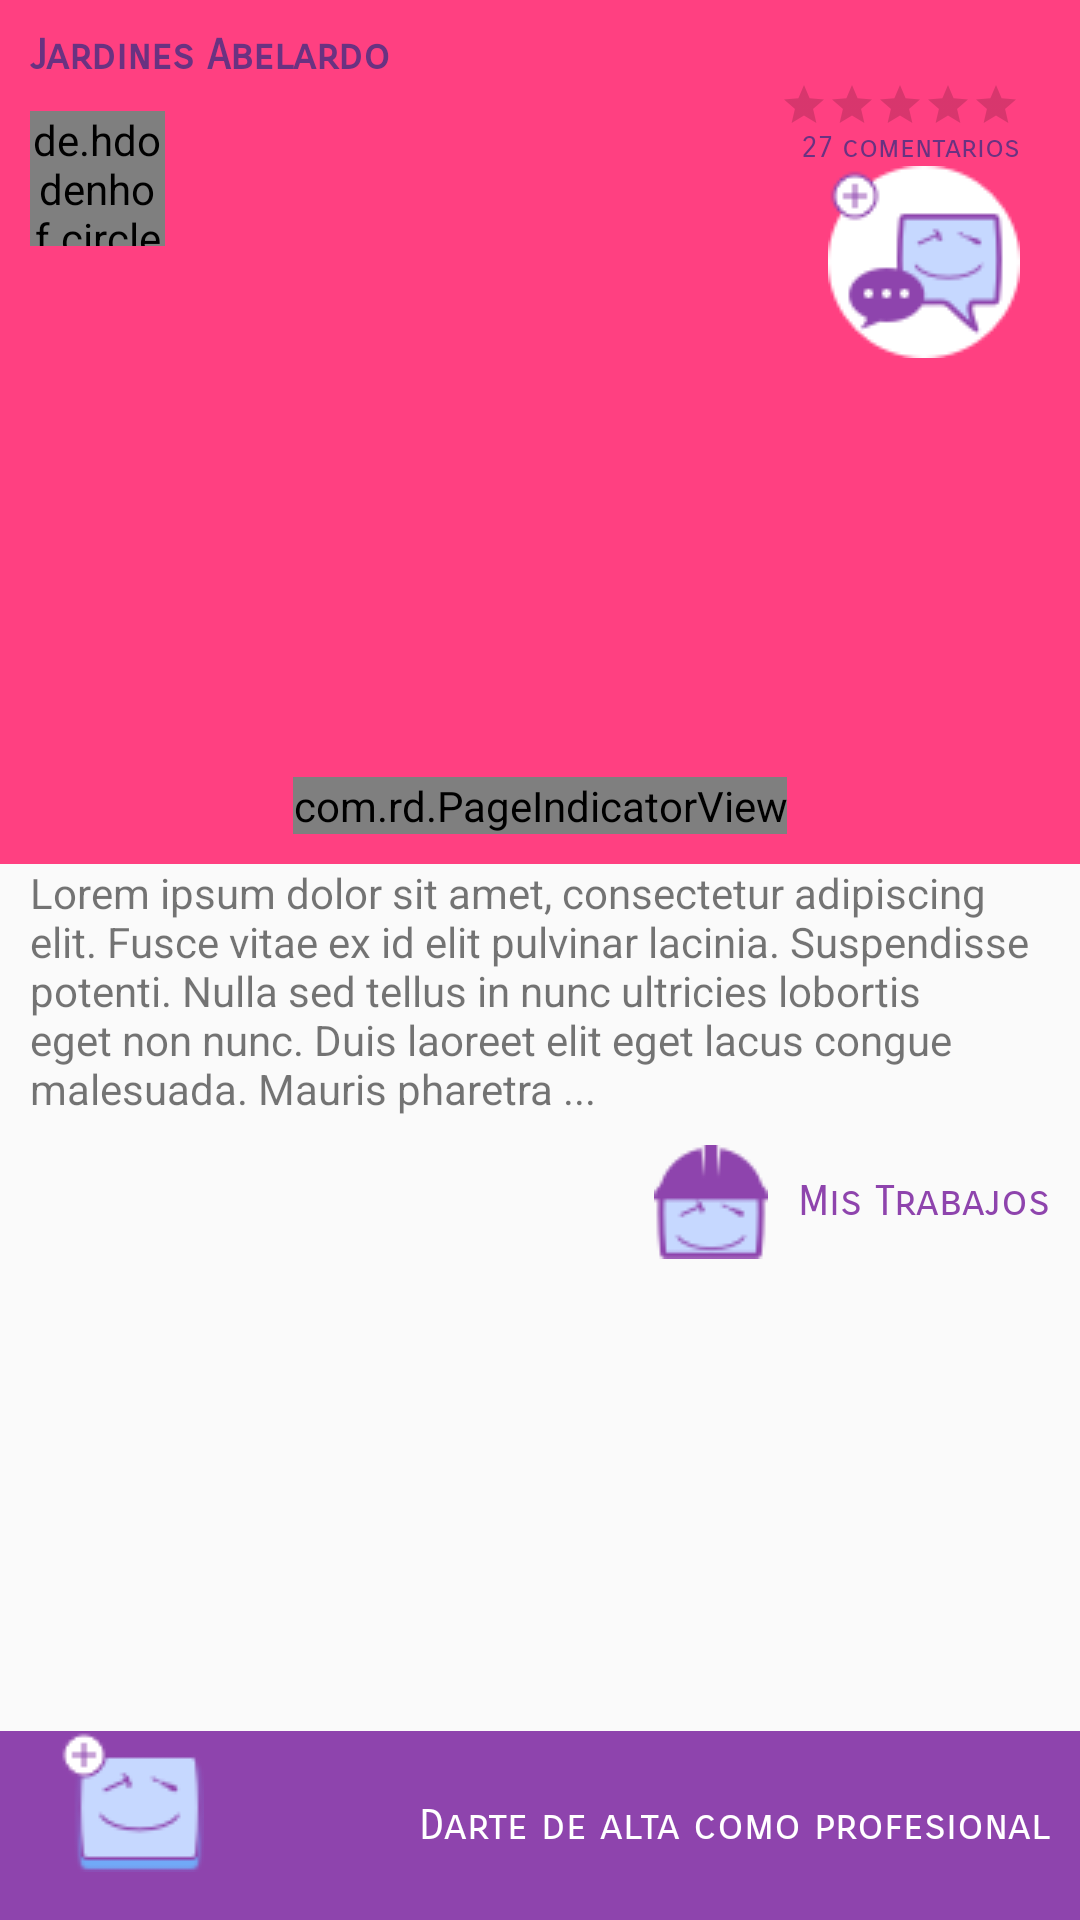

Screen size 1080×1920. Icon name, then its center in pixels as (x,y):
addprofessional: (131,1801)
iconworker: (711,1202)
